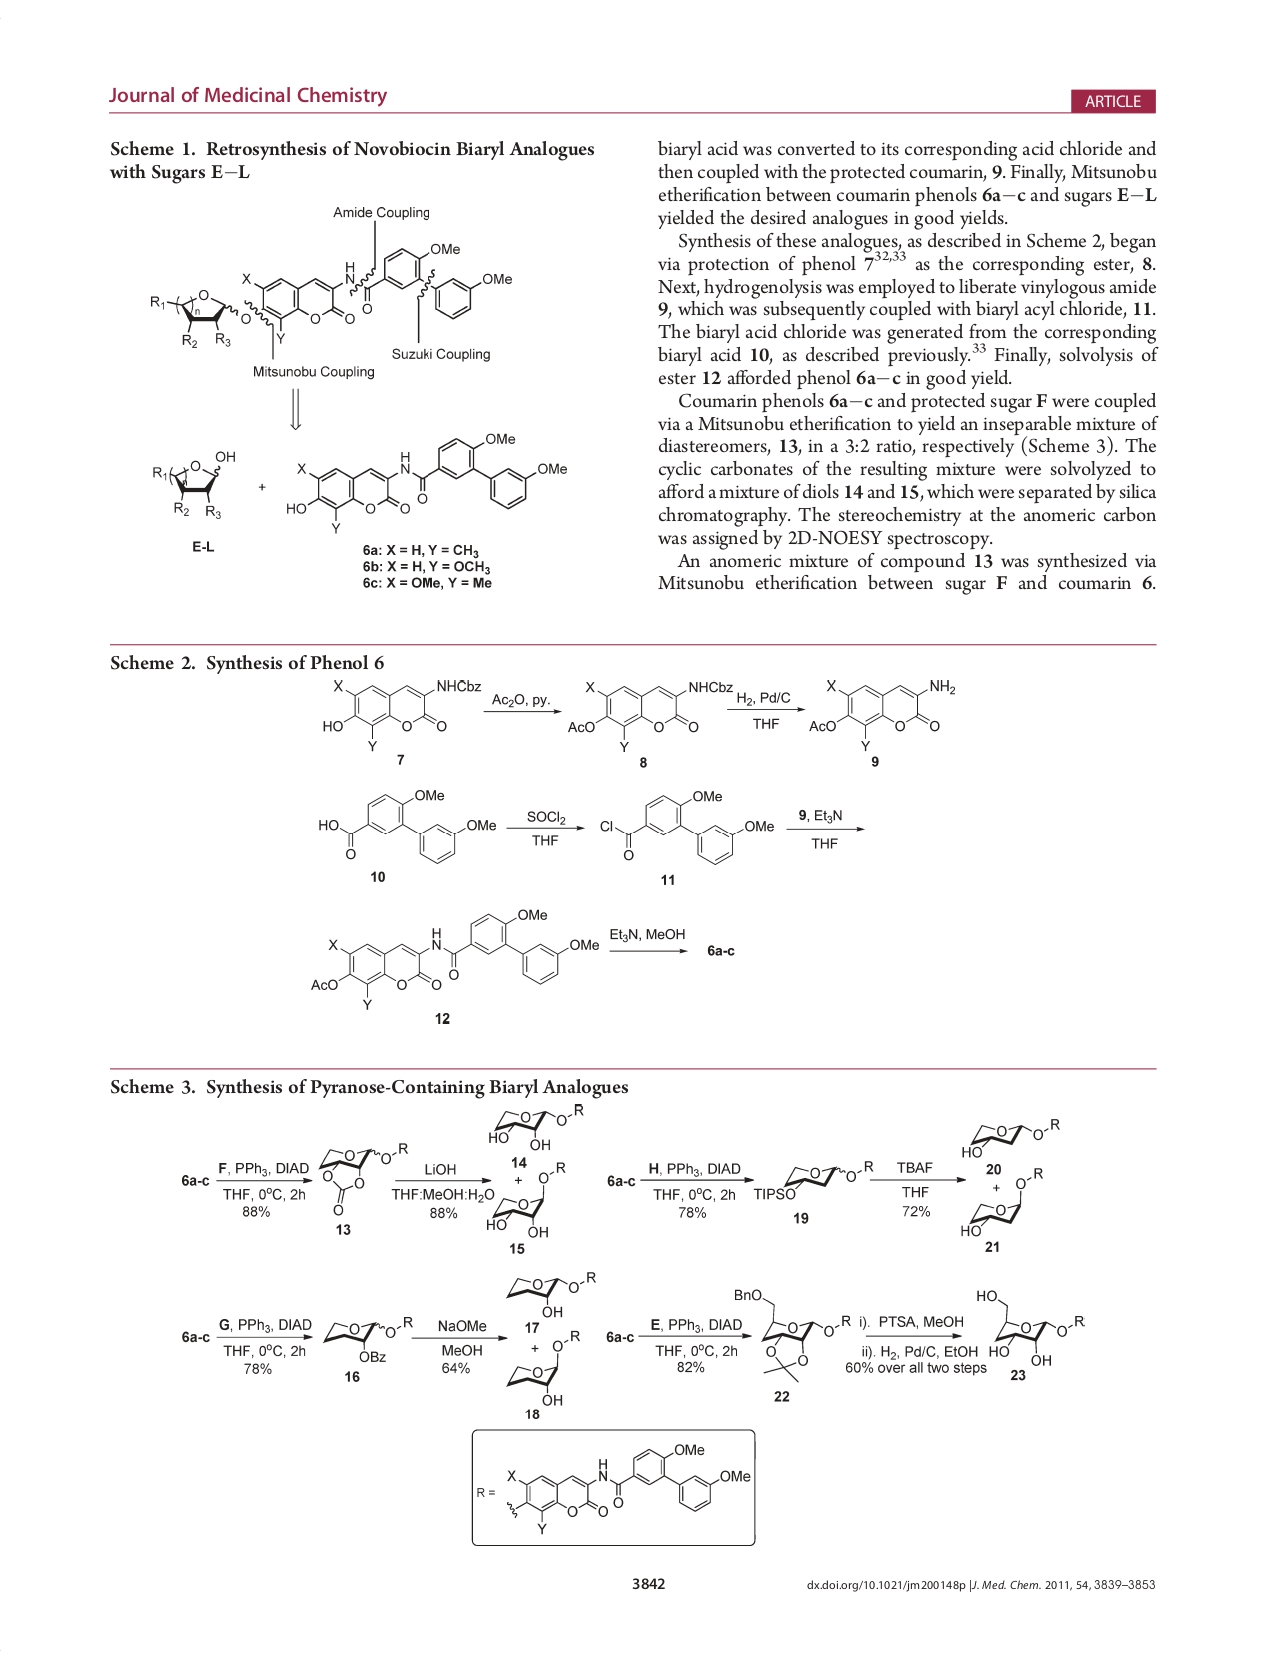exist_molecular: (238, 241, 512, 362), (283, 431, 569, 539), (309, 907, 602, 1011), (505, 1438, 751, 1536), (598, 786, 775, 867), (316, 789, 500, 864), (318, 676, 485, 757), (567, 676, 735, 753), (730, 1285, 851, 1386), (809, 674, 959, 753), (973, 1285, 1086, 1370), (315, 1140, 410, 1217), (149, 446, 241, 523), (483, 1160, 569, 1239), (145, 285, 250, 350), (959, 1166, 1045, 1241), (503, 1329, 582, 1408), (750, 1160, 876, 1205), (485, 1100, 586, 1153), (957, 1114, 1063, 1162), (319, 1317, 416, 1364), (501, 1270, 600, 1317)
